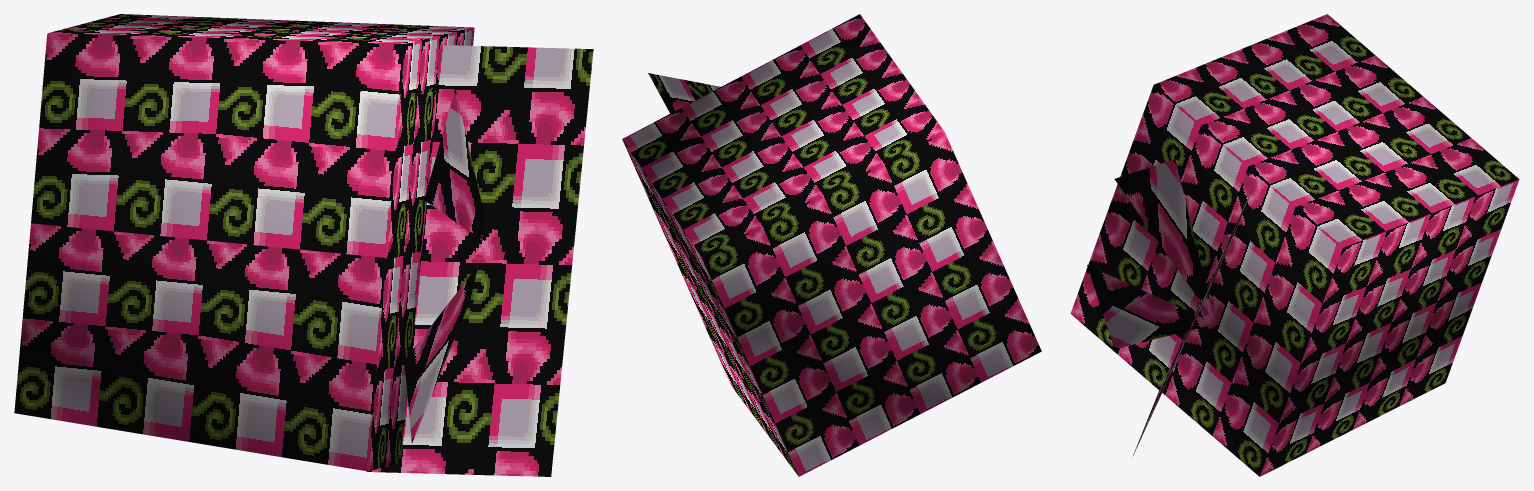
Rendered from 0137sp_xmas_pre_.gltf.
The picture shows the model from 3 angles, left to right: view 1: azimuth 30°, elevation 25°; view 2: azimuth 150°, elevation 25°; view 3: azimuth 270°, elevation 25°; orthographic projection. The views are drawn at different scales.
Visible parts, largest first — view 1: 0137sp_xmas_pre_; view 2: 0137sp_xmas_pre_; view 3: 0137sp_xmas_pre_.
Part boxes in pixels (bbox=[...]): 0137sp_xmas_pre_: bbox=[14, 14, 593, 476]; 0137sp_xmas_pre_: bbox=[622, 14, 1041, 476]; 0137sp_xmas_pre_: bbox=[1070, 14, 1519, 476].
Size of the model in its own units: 0.6733 by 0.5583 by 0.6406.
1 material, 1 textured.
